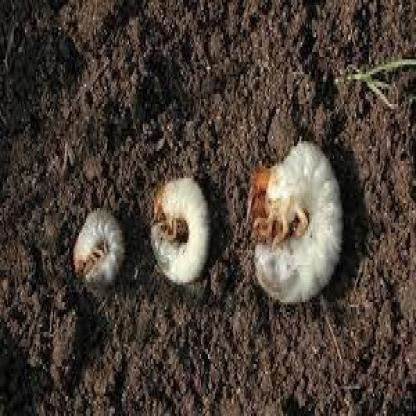root grubs: (246, 145, 343, 306), (150, 181, 210, 286), (73, 215, 123, 288)
